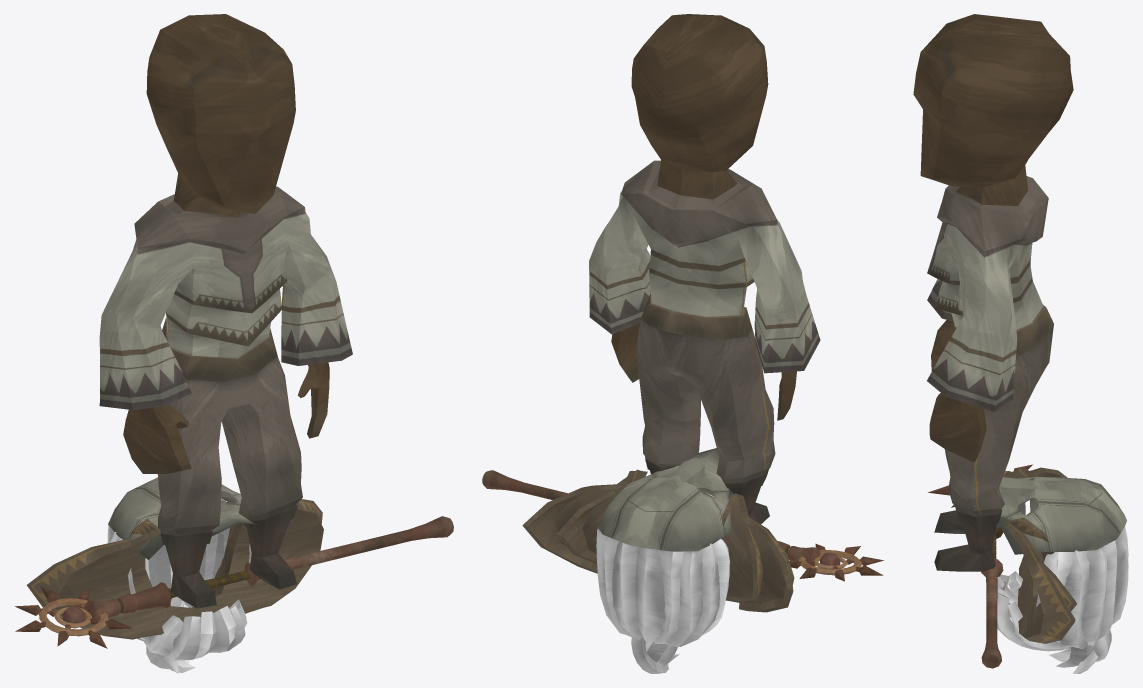
File: quaternius-char-cleric.glb
The picture shows the model from 3 angles, left to right: view 1: azimuth 30°, elevation 25°; view 2: azimuth 150°, elevation 25°; view 3: azimuth 270°, elevation 25°; orthographic projection. The views are drawn at different scales.
Parts seen in each view (by area): view 1: Cleric; view 2: Cleric; view 3: Cleric.
Part boxes in pixels (x1,y1,x2,y2): Cleric: (15, 14, 453, 673); Cleric: (482, 14, 883, 673); Cleric: (913, 14, 1128, 673).
Bounding box in the file's own units: 2.44 × 3.62 × 1.09.
Materials: 2 (2 with a texture image).
